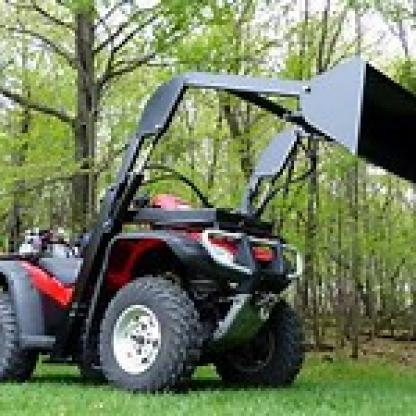road_sign: (197, 2, 399, 188), (208, 239, 408, 413), (19, 233, 211, 413), (397, 236, 413, 413), (402, 0, 413, 189)
